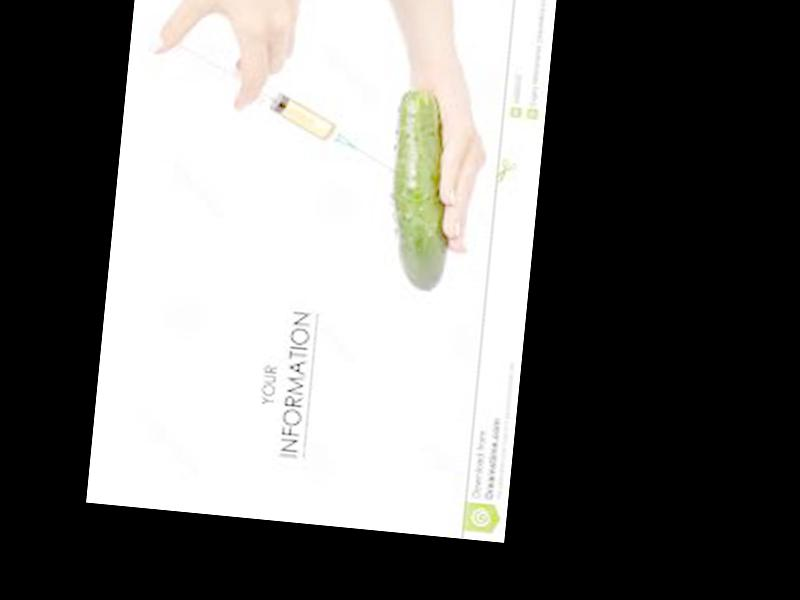Cucumber: (383, 88, 461, 292)
